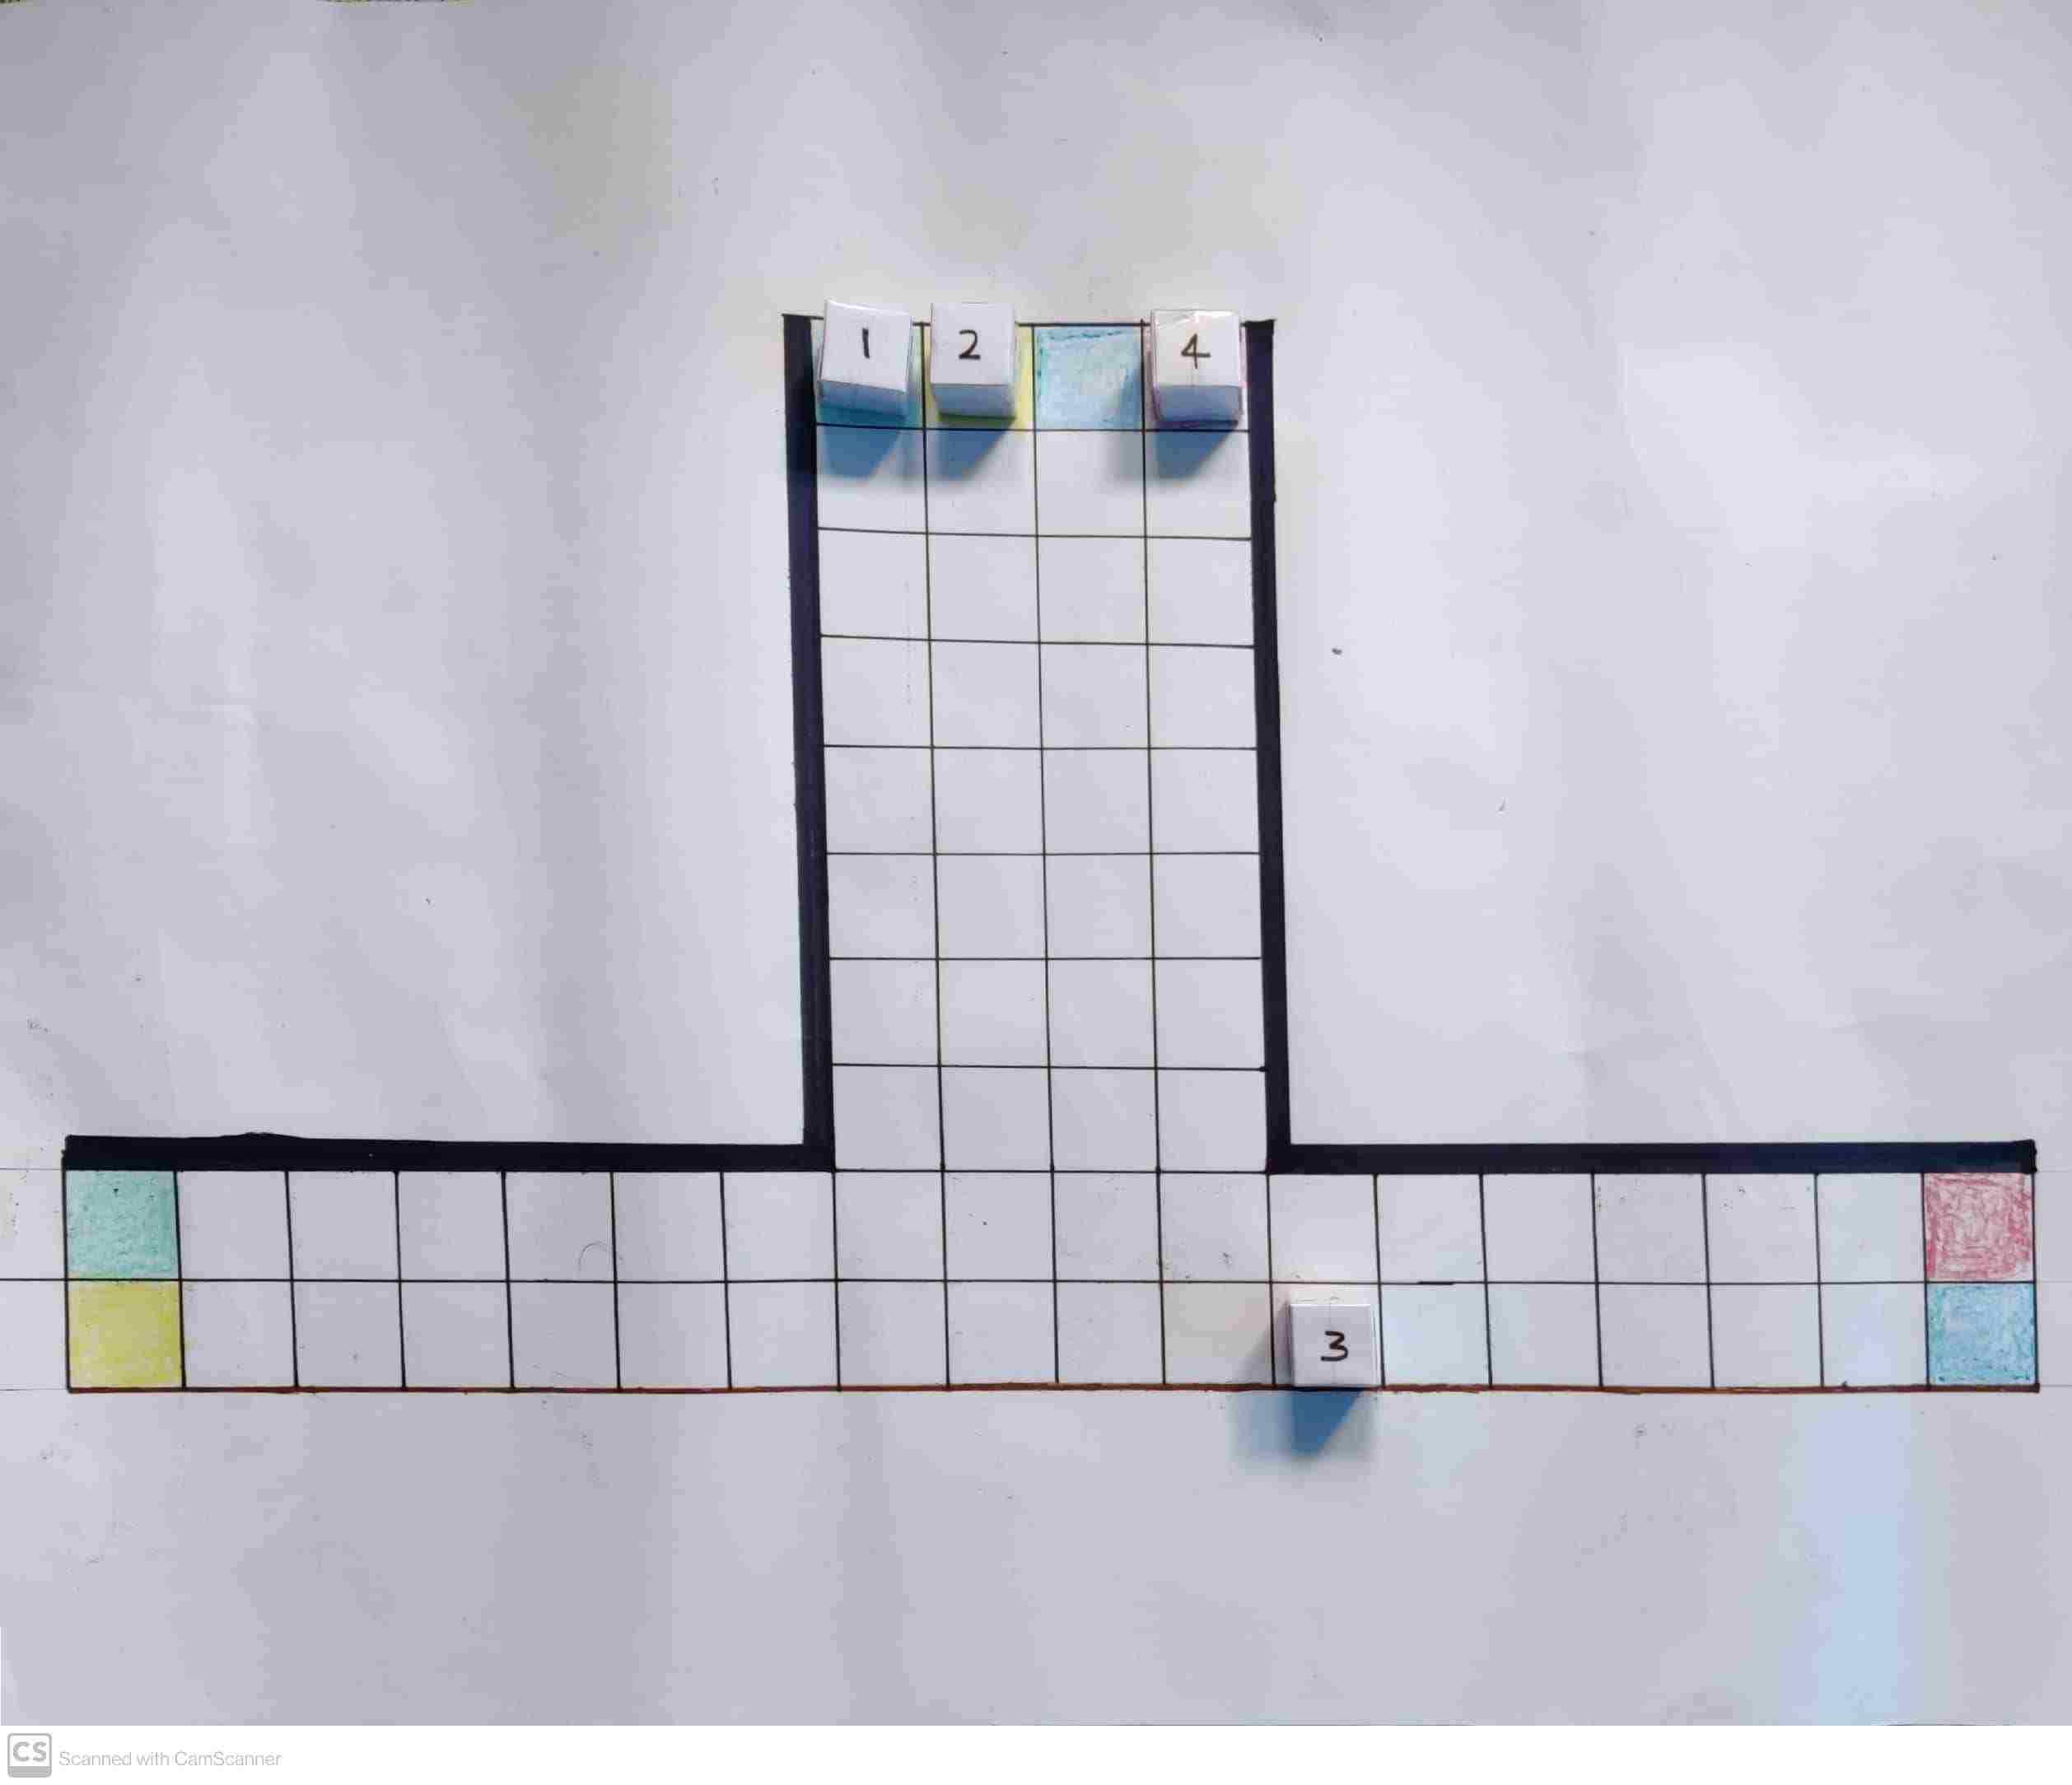arena: (63, 307, 2028, 1396)
bot: (825, 307, 913, 389), (932, 310, 1015, 388), (1154, 315, 1239, 389), (1295, 1307, 1369, 1389)
